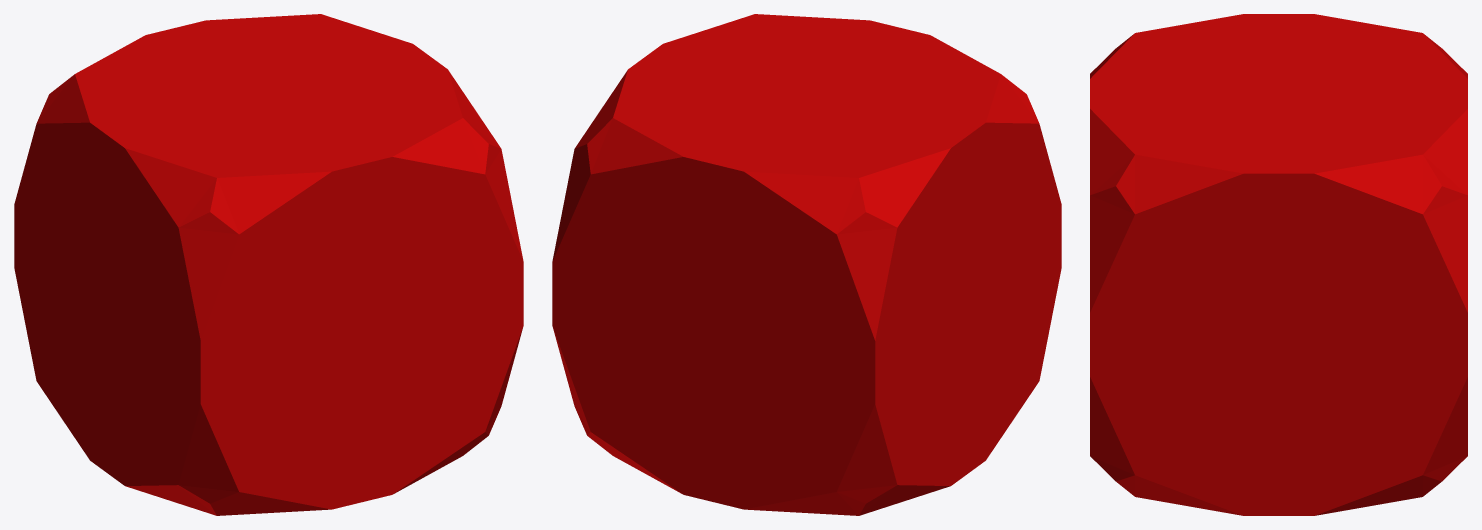
The model's file is rdmblk.obj.
3 views of the same model, side by side, from view 1: azimuth 30°, elevation 25°; view 2: azimuth 150°, elevation 25°; view 3: azimuth 270°, elevation 25° (orthographic).
Parts seen in each view (by area): view 1: Cube; view 2: Cube; view 3: Cube.
Part boxes in pixels (box(x1,y1,x2,y2)): Cube: box(14, 14, 523, 515); Cube: box(552, 14, 1061, 515); Cube: box(1090, 14, 1467, 515).
Size of the model in its own units: 3.89 by 3.89 by 3.89.
